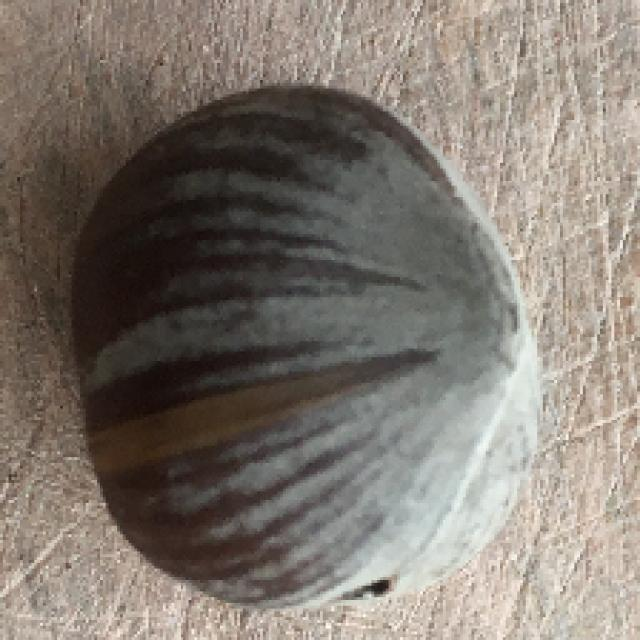damagedHazelnut: (64, 80, 548, 618)
